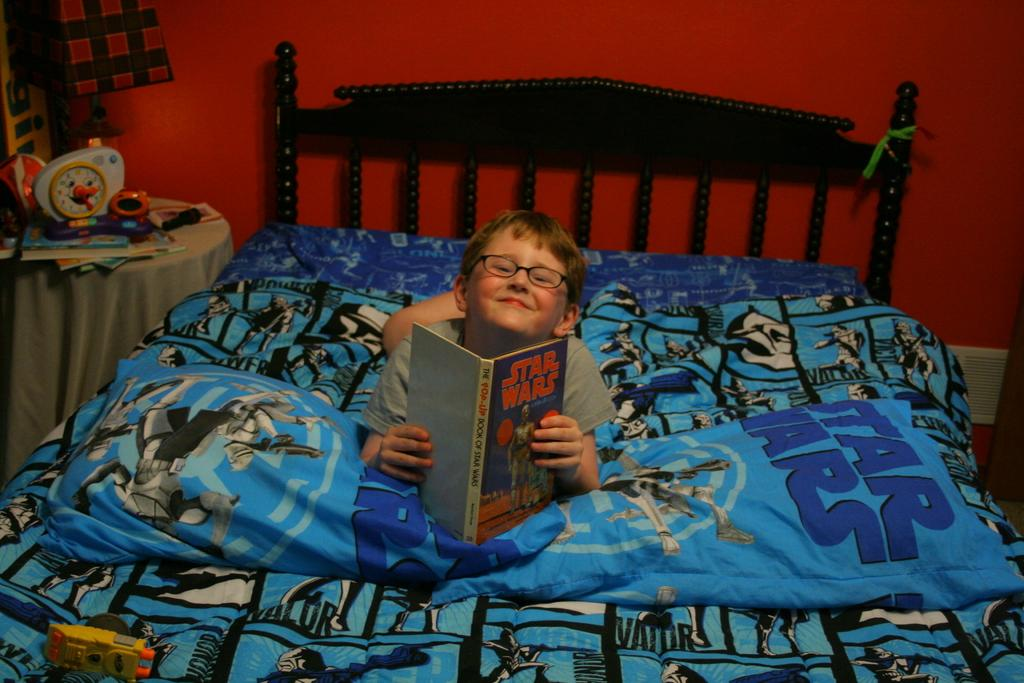Book: (408, 344, 560, 558), (58, 235, 181, 281), (17, 220, 139, 263), (1, 226, 20, 262)
